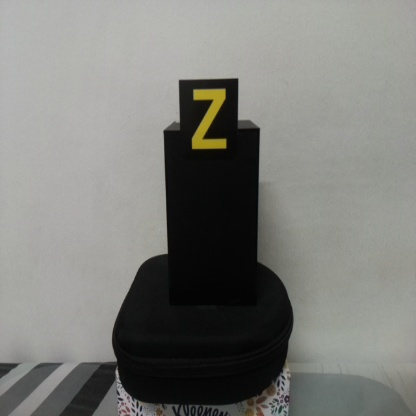id_15: (178, 80, 238, 162)
